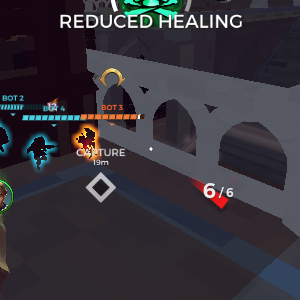model: (73, 126, 97, 162)
